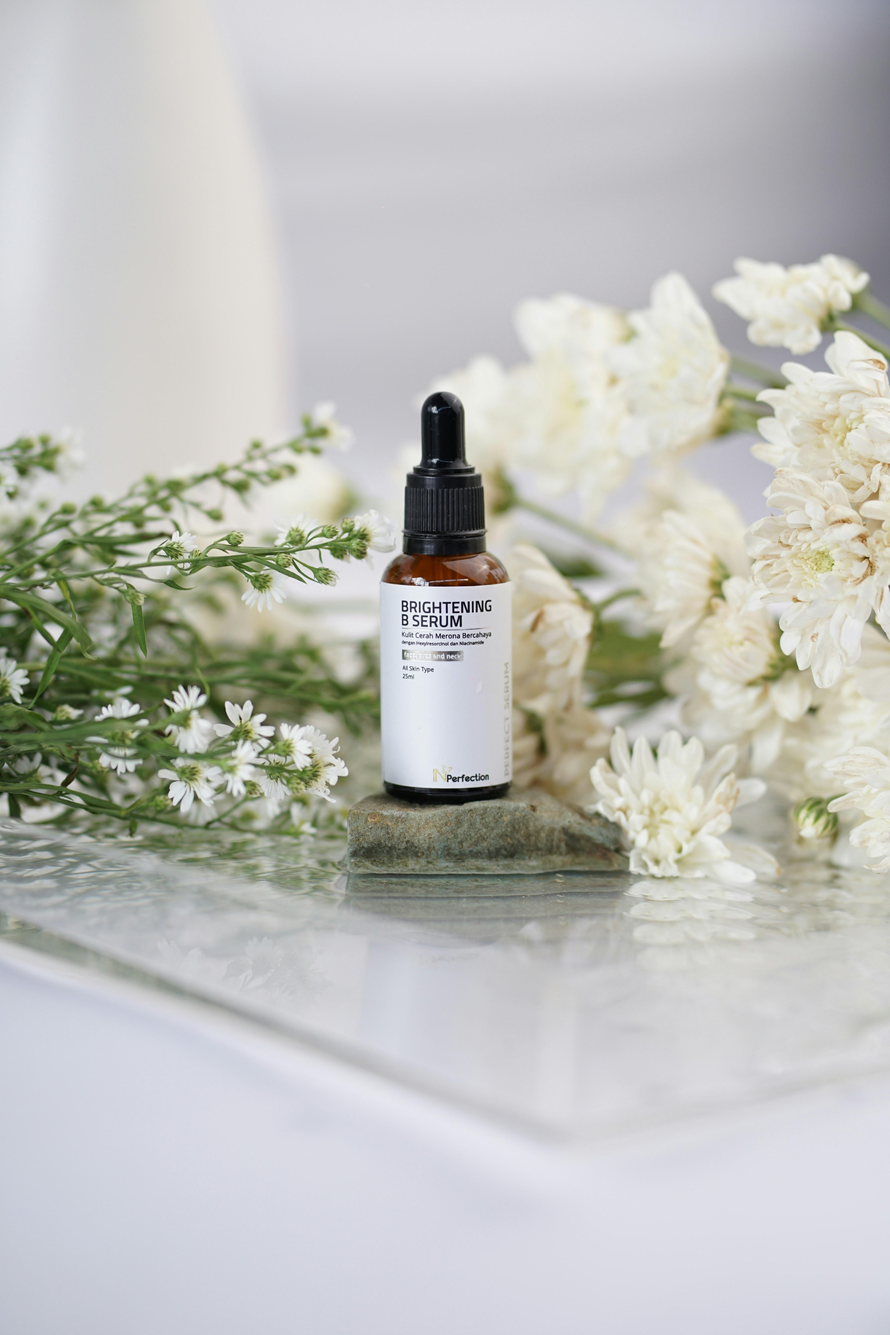Bottle-Detection: (332, 360, 572, 825)
